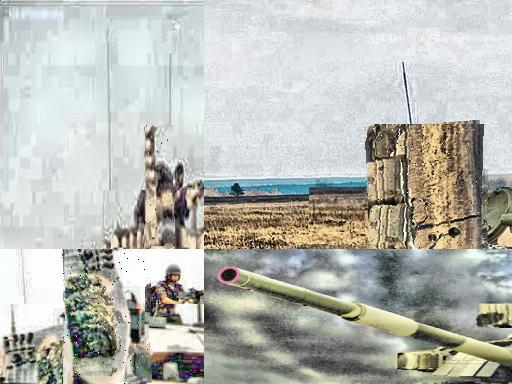tanks: (219, 267, 512, 384), (64, 250, 149, 384), (367, 126, 418, 250), (145, 128, 174, 250), (478, 306, 512, 327), (104, 243, 116, 250)
